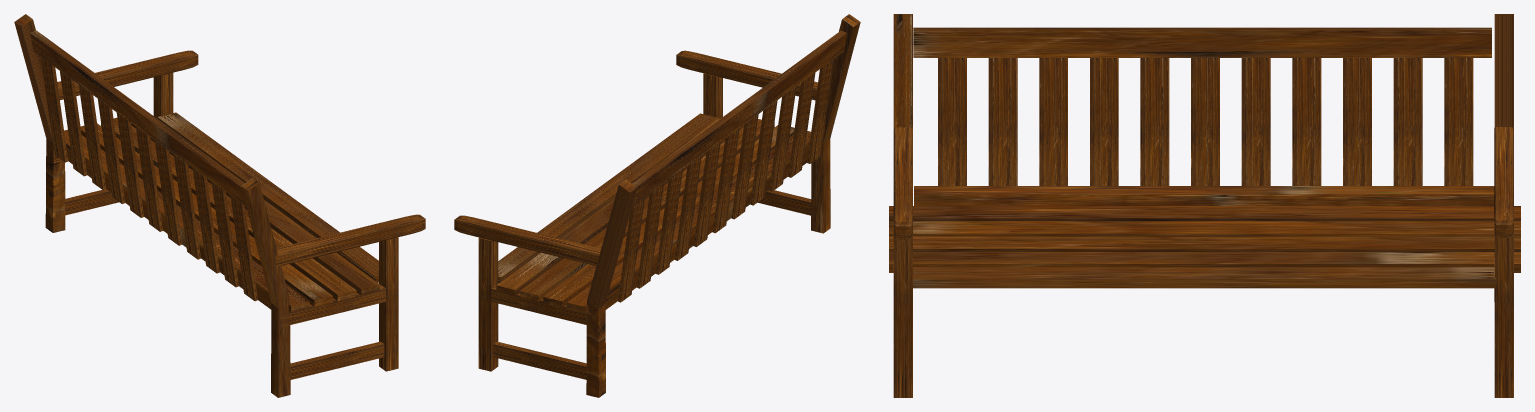
Rendered from banco_final.fbx.
The picture shows the model from 3 angles, left to right: view 1: azimuth 30°, elevation 25°; view 2: azimuth 150°, elevation 25°; view 3: azimuth 270°, elevation 25°; orthographic projection. The views are drawn at different scales.
Visible parts, largest first — view 1: Cube.019, Cube.018, Cube.020, Cube.015, Cube.017, Cube.026, Cube.014, Cube.027, Cube.024, Cube.021, Cube.023, Cube.016 (+1 smaller); view 2: Cube.019, Cube.018, Cube.020, Cube.017, Cube.015, Cube.027, Cube.016, Cube.026, Cube.025, Cube.023, Cube.022, Cube.014 (+1 smaller); view 3: Cube.018, Cube.019, Cube.020, Cube.023, Cube.016, Cube.014, Cube.017, Cube.015, Cube.026, Cube.027.
Boxes of the visible parts, <box> form: Cube.019: <box>41,57,257,301</box>; Cube.018: <box>64,112,379,312</box>; Cube.020: <box>30,30,246,206</box>; Cube.015: <box>241,178,290,397</box>; Cube.017: <box>14,14,65,232</box>; Cube.026: <box>275,214,425,266</box>; Cube.014: <box>379,237,398,371</box>; Cube.027: <box>57,50,198,99</box>; Cube.024: <box>290,341,384,379</box>; Cube.021: <box>281,284,385,327</box>; Cube.023: <box>65,140,271,309</box>; Cube.016: <box>153,72,173,118</box>; Cube.019: <box>618,59,834,302</box>; Cube.018: <box>496,113,810,313</box>; Cube.020: <box>632,30,847,206</box>; Cube.017: <box>586,179,637,397</box>; Cube.015: <box>811,14,860,233</box>; Cube.027: <box>454,215,600,265</box>; Cube.016: <box>478,237,498,371</box>; Cube.026: <box>676,50,817,100</box>; Cube.025: <box>493,341,586,379</box>; Cube.023: <box>605,142,809,309</box>; Cube.022: <box>491,284,586,324</box>; Cube.014: <box>703,73,722,119</box>; Cube.018: <box>889,206,1520,288</box>; Cube.019: <box>938,58,1473,185</box>; Cube.020: <box>913,27,1491,57</box>; Cube.023: <box>914,186,1494,205</box>; Cube.016: <box>1494,215,1513,397</box>; Cube.014: <box>893,231,912,397</box>; Cube.017: <box>1494,14,1513,206</box>; Cube.015: <box>893,14,912,129</box>; Cube.026: <box>893,127,912,239</box>; Cube.027: <box>1494,127,1513,237</box>.
Size of the model in its own units: 144 by 168 by 328.
1 material, 1 textured.
